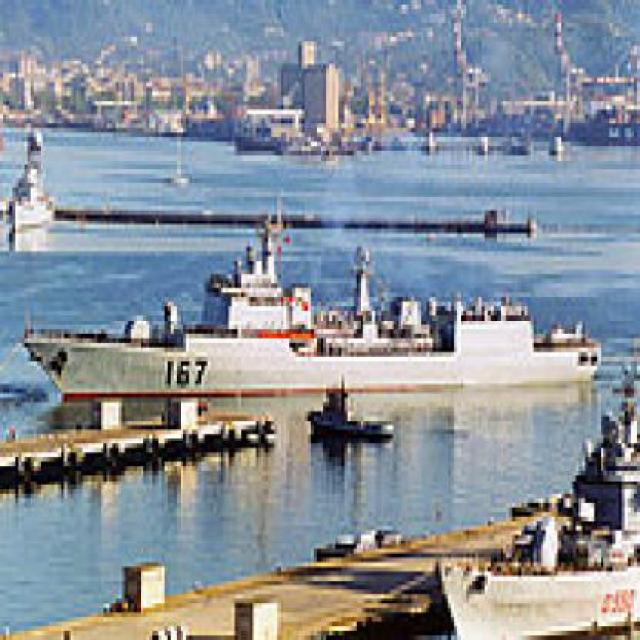warship2: (56, 193, 617, 417)
